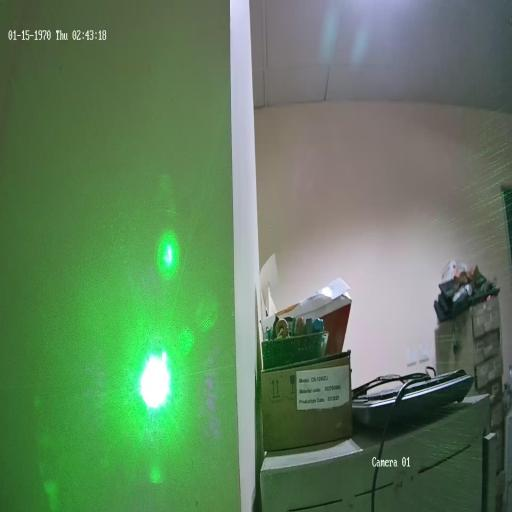laser: (128, 334, 178, 414)
